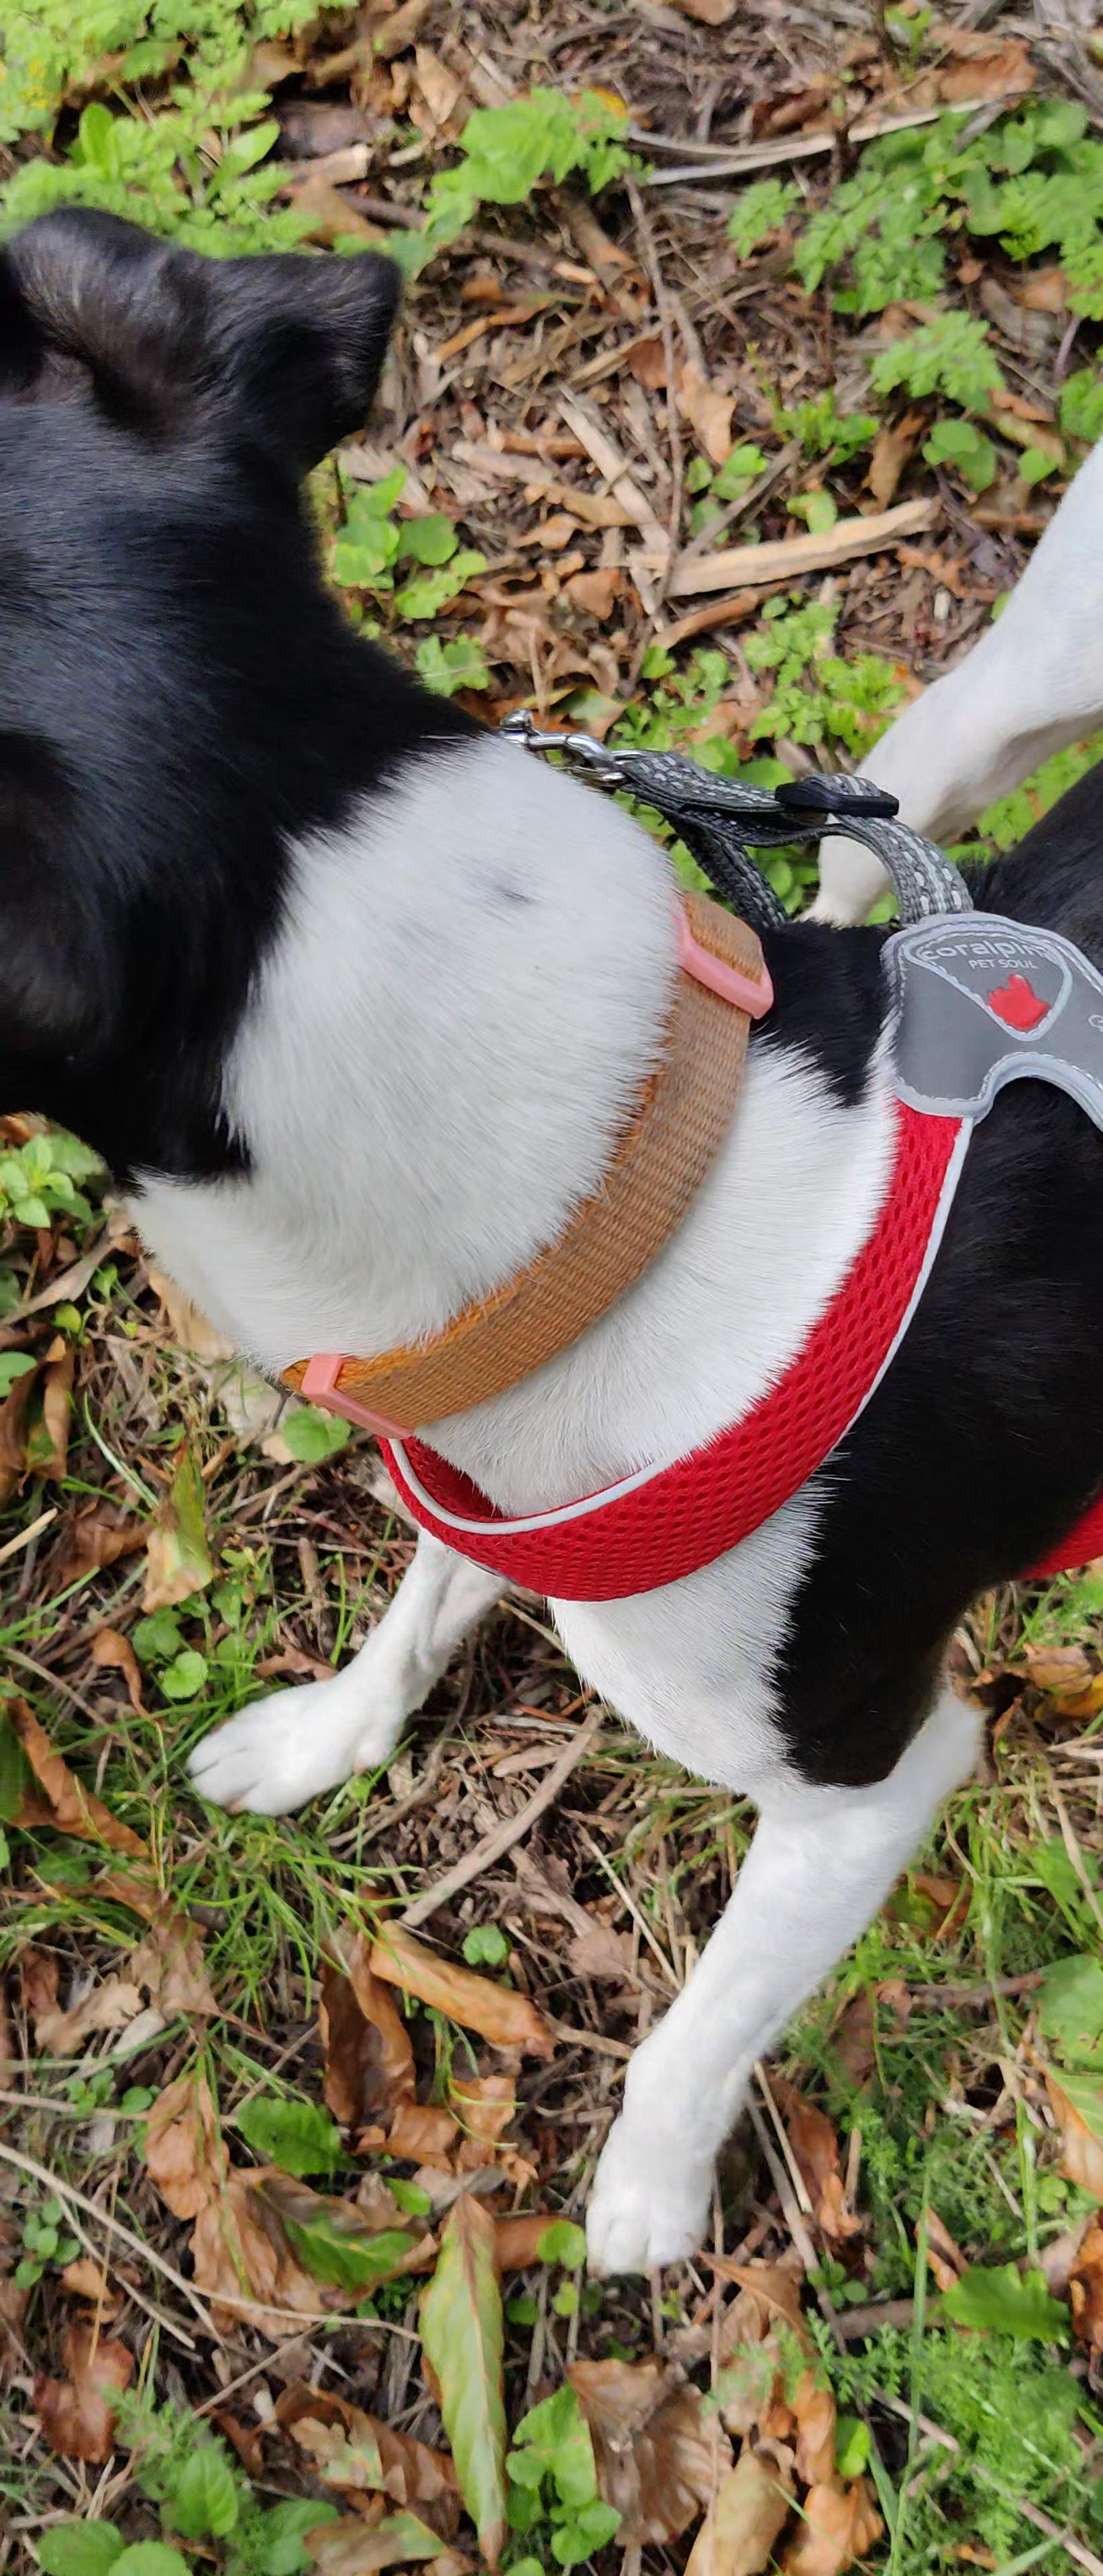Dog: (0, 202, 1103, 2293)
